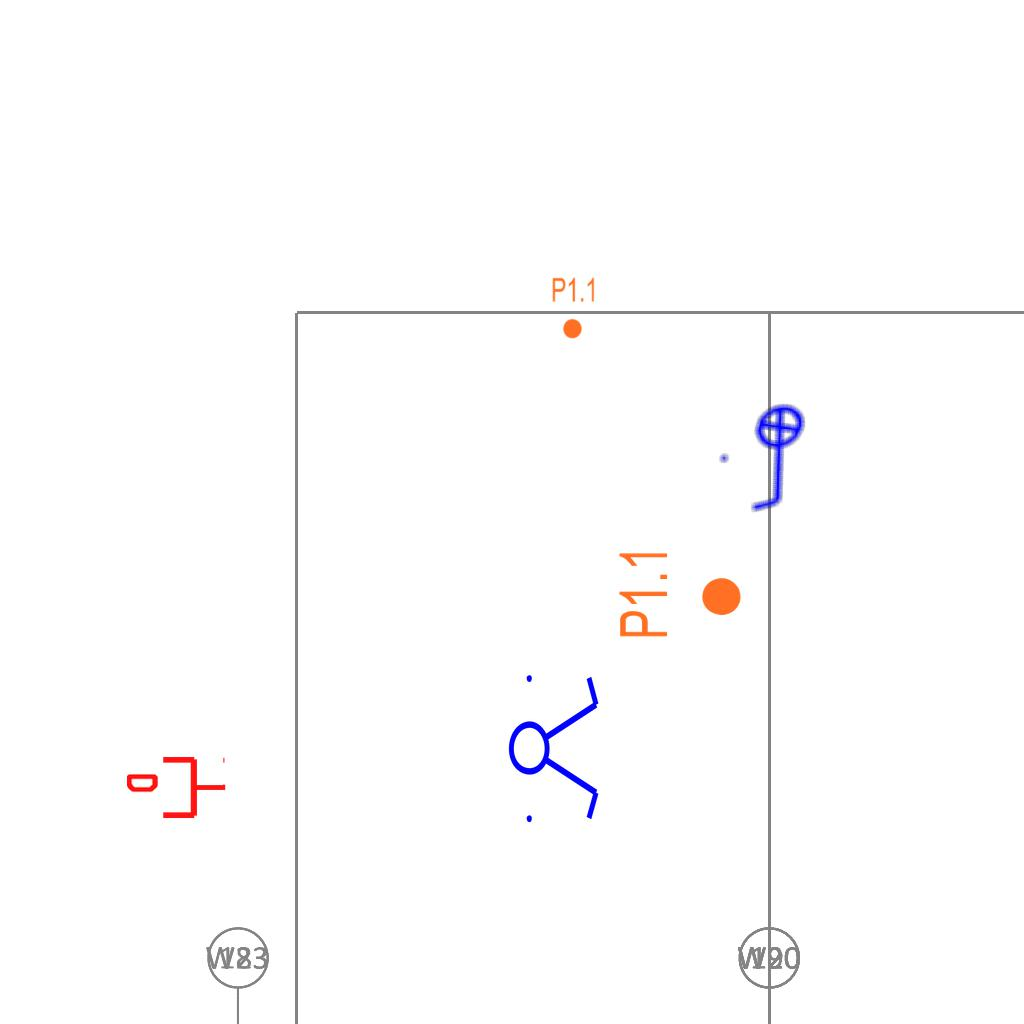Ausschalter_beleuchtet: (705, 388, 851, 528)
Datenanschluss_einfach: (127, 753, 227, 822)
Downlight_LED_Einbauleuchten_Flur: (616, 547, 744, 640), (551, 276, 597, 340)
Serienschalter: (507, 663, 603, 831)
